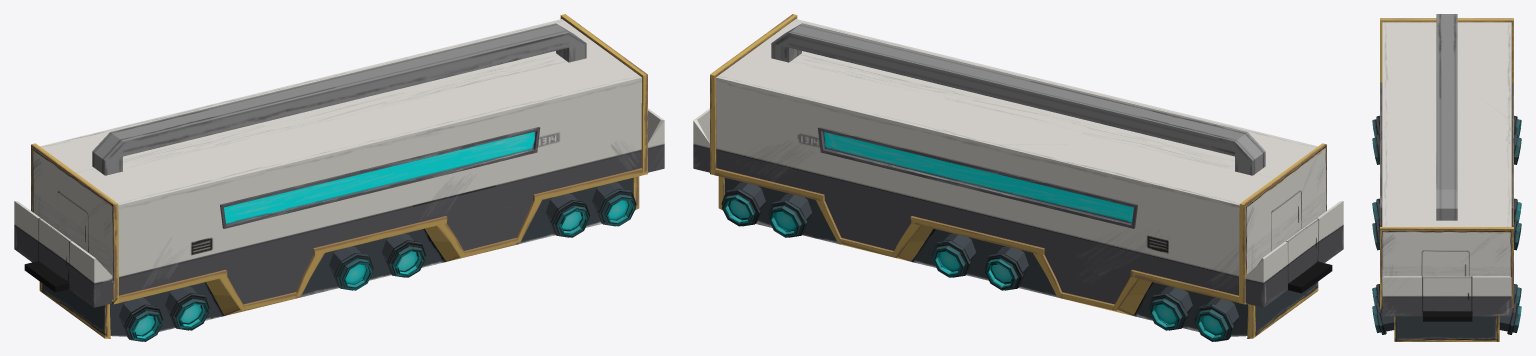
Rendered from trainbodyblend.obj.
3 renders of one model, left to right at view 1: azimuth 30°, elevation 25°; view 2: azimuth 150°, elevation 25°; view 3: azimuth 270°, elevation 25°, orthographic. The views are drawn at different scales.
Visible parts, largest first — view 1: Cube_Cube.001; view 2: Cube_Cube.001; view 3: Cube_Cube.001.
Part boxes in pixels (x1,y1,x2,y2): Cube_Cube.001: (14,14,664,341); Cube_Cube.001: (693,14,1343,341); Cube_Cube.001: (1372,14,1521,341).
Size of the model in its own units: 8.63 by 2.41 by 2.31.
Materials: 1 (1 with a texture image).
